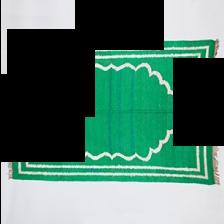green: (8, 41, 216, 184)
